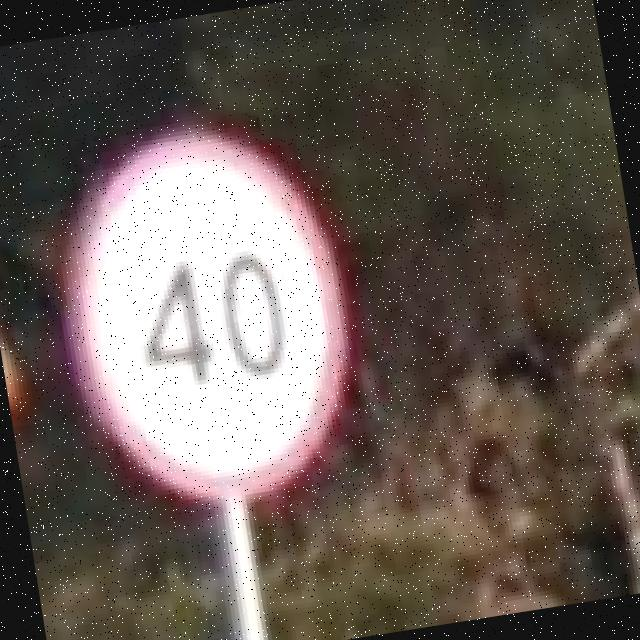Ograniczenie predkosci do 40: (40, 114, 374, 527)
